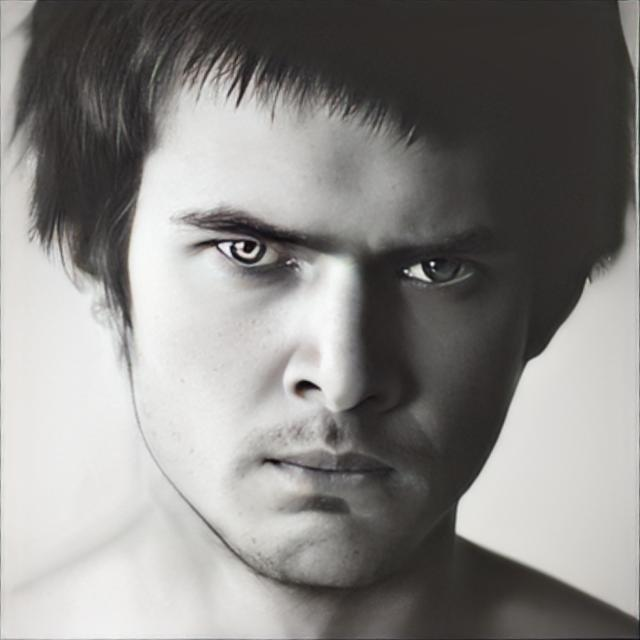anger: (120, 91, 529, 593)
